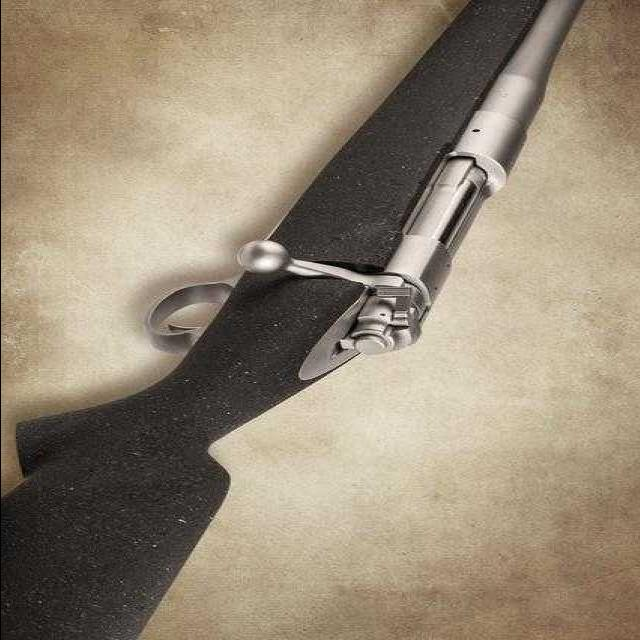heavyweapon: (1, 1, 605, 640)
